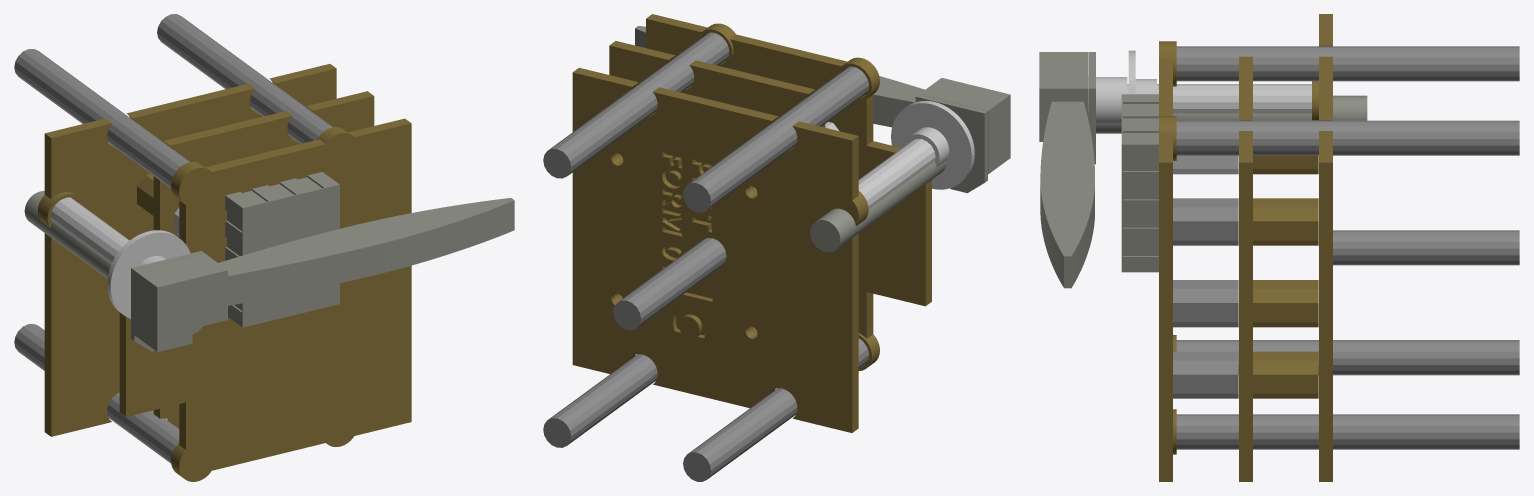
Rendered from platform-mine.glb.
3 views of the same model, side by side, from view 1: azimuth 30°, elevation 25°; view 2: azimuth 150°, elevation 25°; view 3: azimuth 270°, elevation 25° (orthographic). The views are drawn at different scales.
Parts seen in each view (by area): view 1: Platform_01_Instance; view 2: Platform_01_Instance; view 3: Platform_01_Instance.
Part boxes in pixels (x1,y1,x2,y2): Platform_01_Instance: (14,14,514,481); Platform_01_Instance: (543,14,1010,481); Platform_01_Instance: (1039,14,1519,481).
Bounding box in the file's own units: 2.04 × 1.64 × 2.13.
